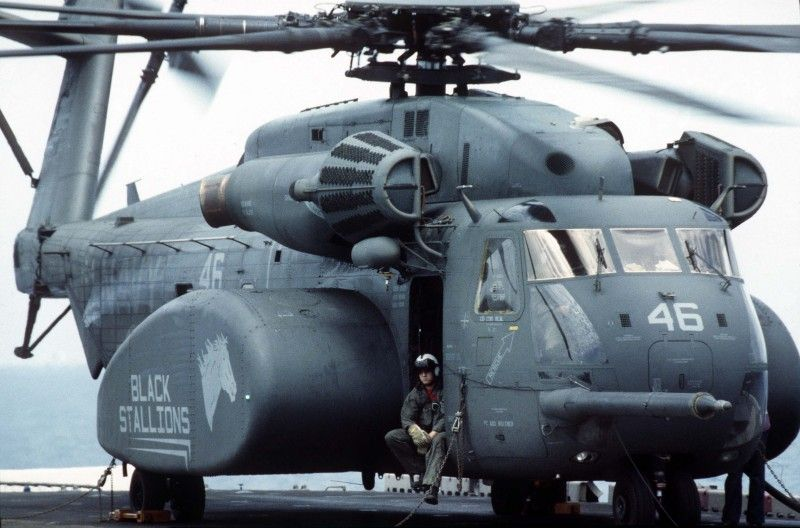MilitaryHelicopter: (11, 9, 794, 516)
